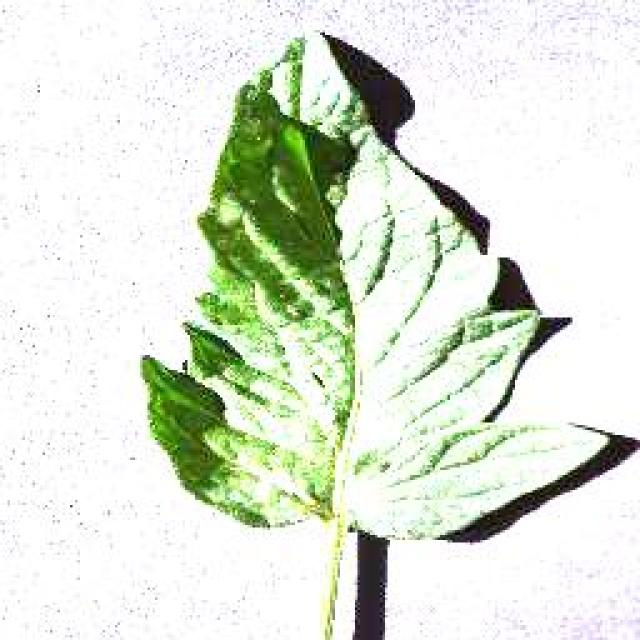Tomato___healthy: (142, 23, 614, 638)
